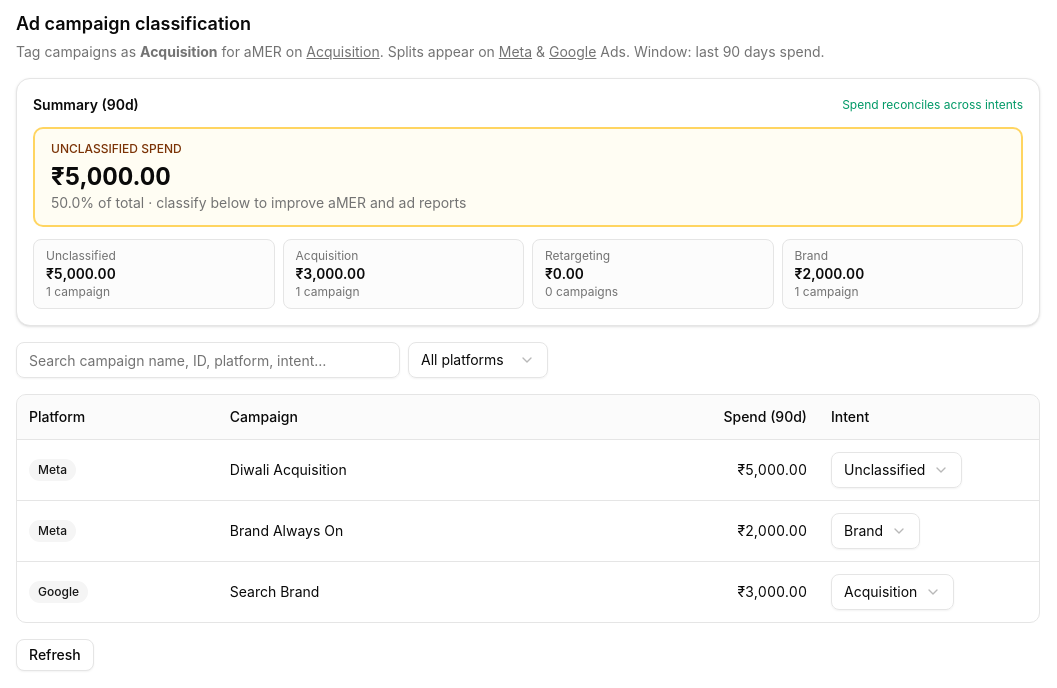
it: AdCampaignsContent — search filtering › no-match search shows filtered-empty message
Step 1. Type "xyzzy-no-match" into the search field with test id "campaign-search" → coordinates (208, 360), box [16,342,400,378]
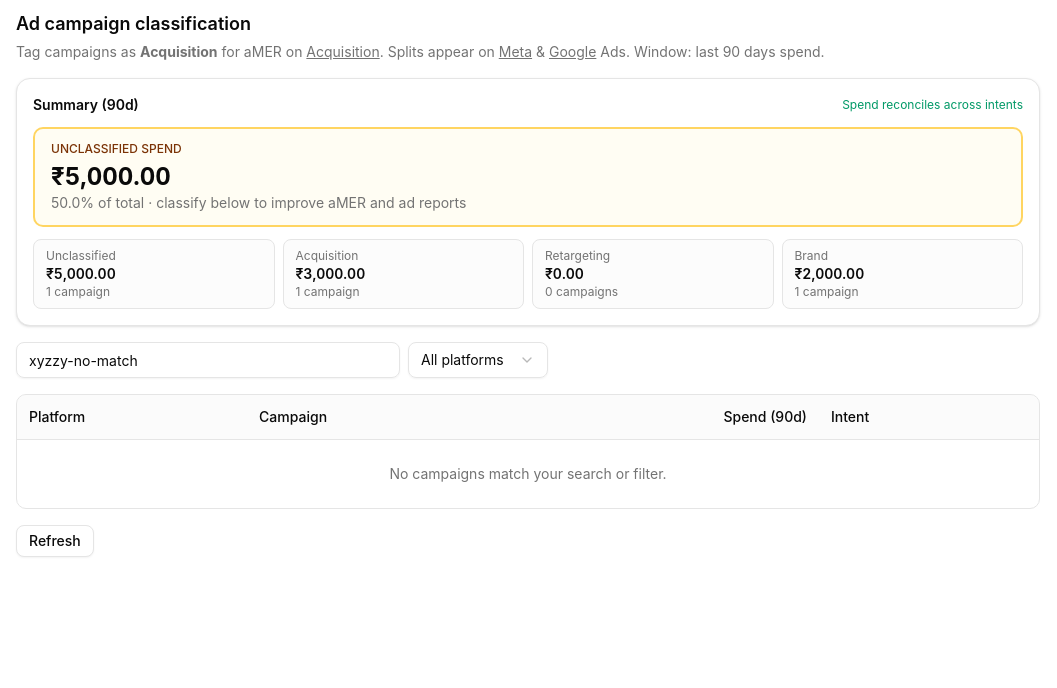
Expected: the text "No campaigns match your search or filter." is shown, [389,465,667,482]
